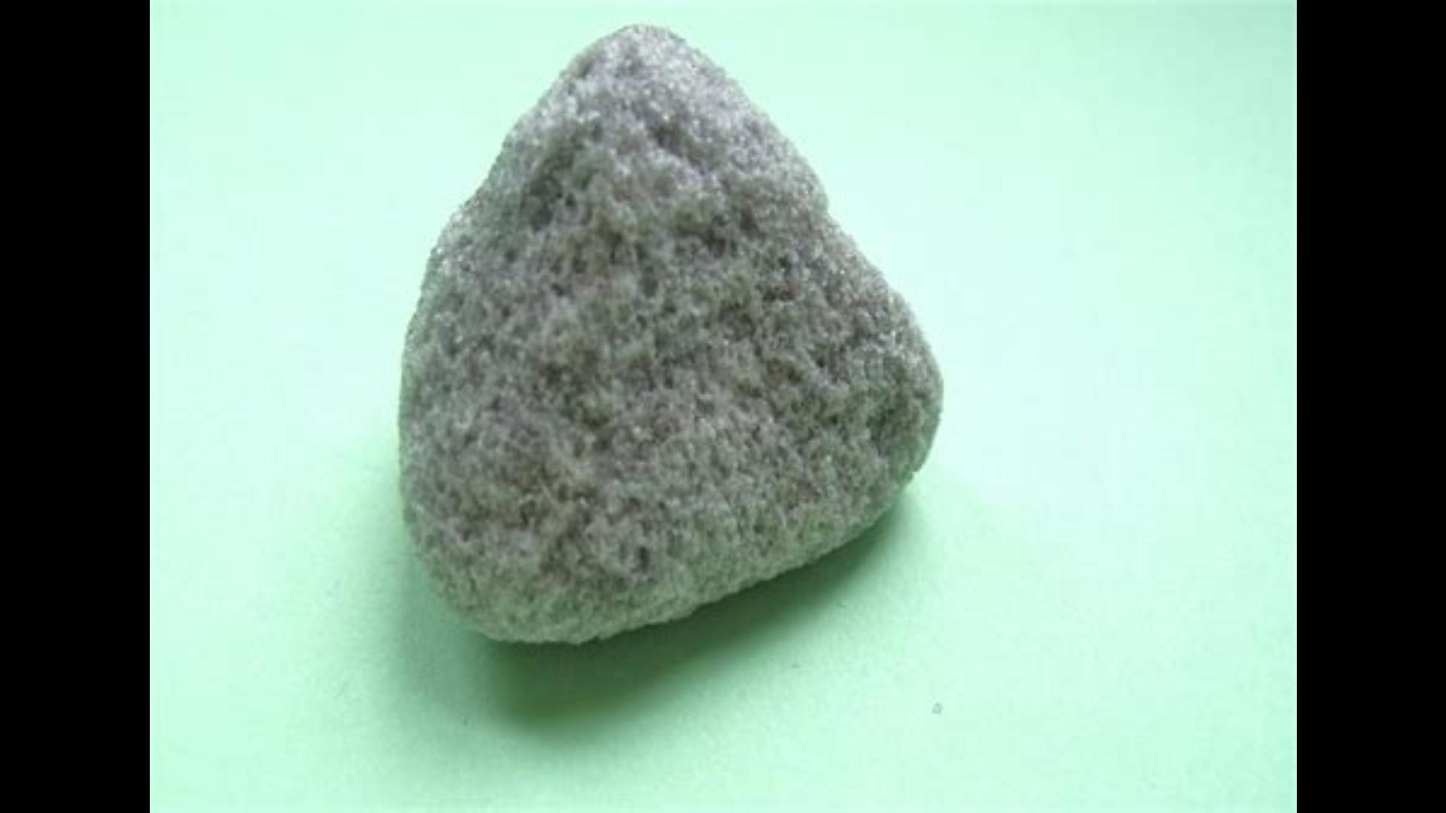rock: (406, 27, 936, 639)
